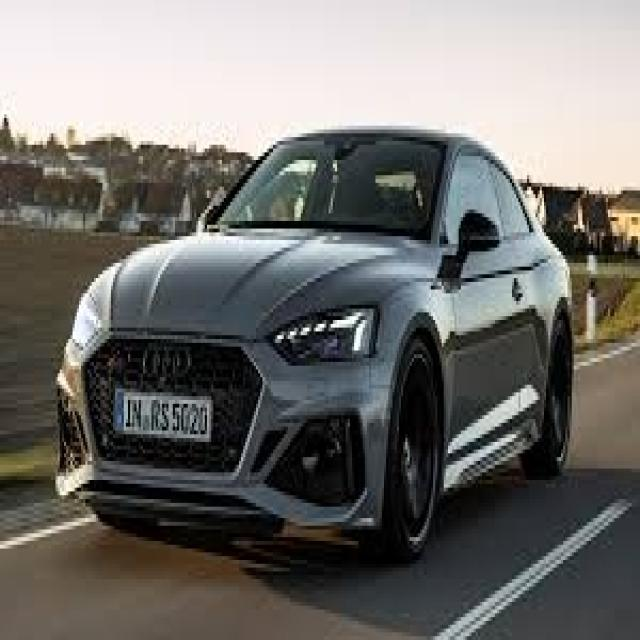black: (63, 128, 586, 577)
